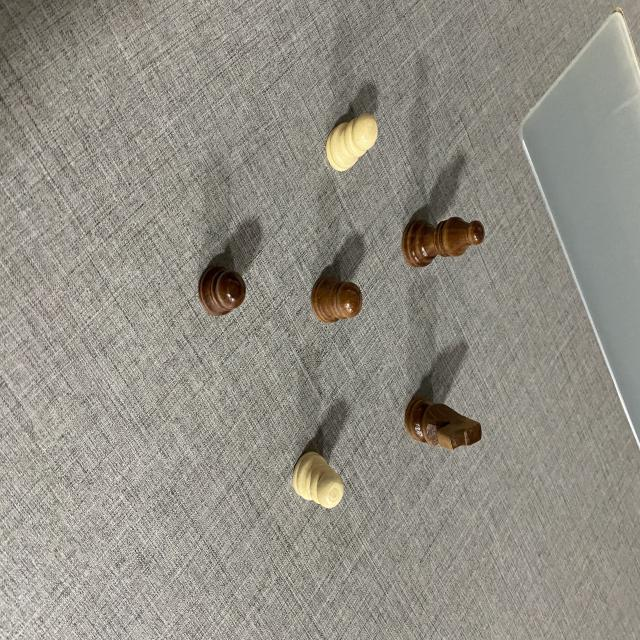Black-Bishop: (401, 214, 488, 271)
Black-Knight: (403, 393, 483, 453)
Black-Pawn: (311, 270, 363, 326), (198, 262, 248, 318)
White-Pawn: (325, 114, 381, 175), (293, 451, 345, 508)
